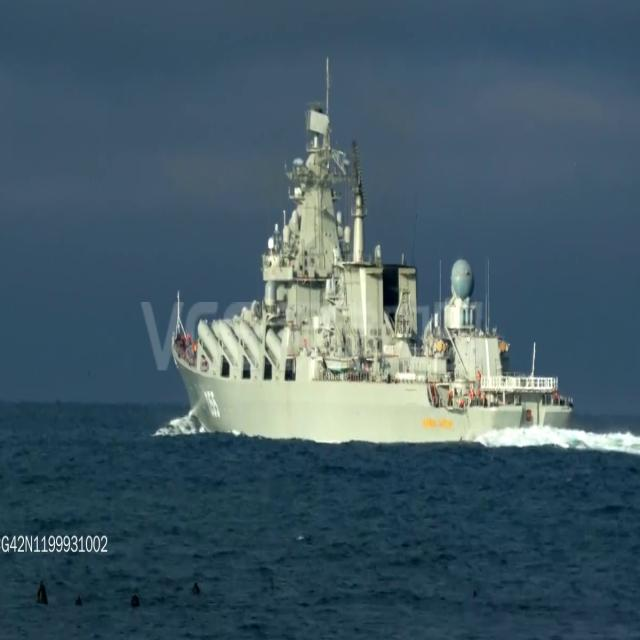navalvessels: (166, 80, 568, 448)
